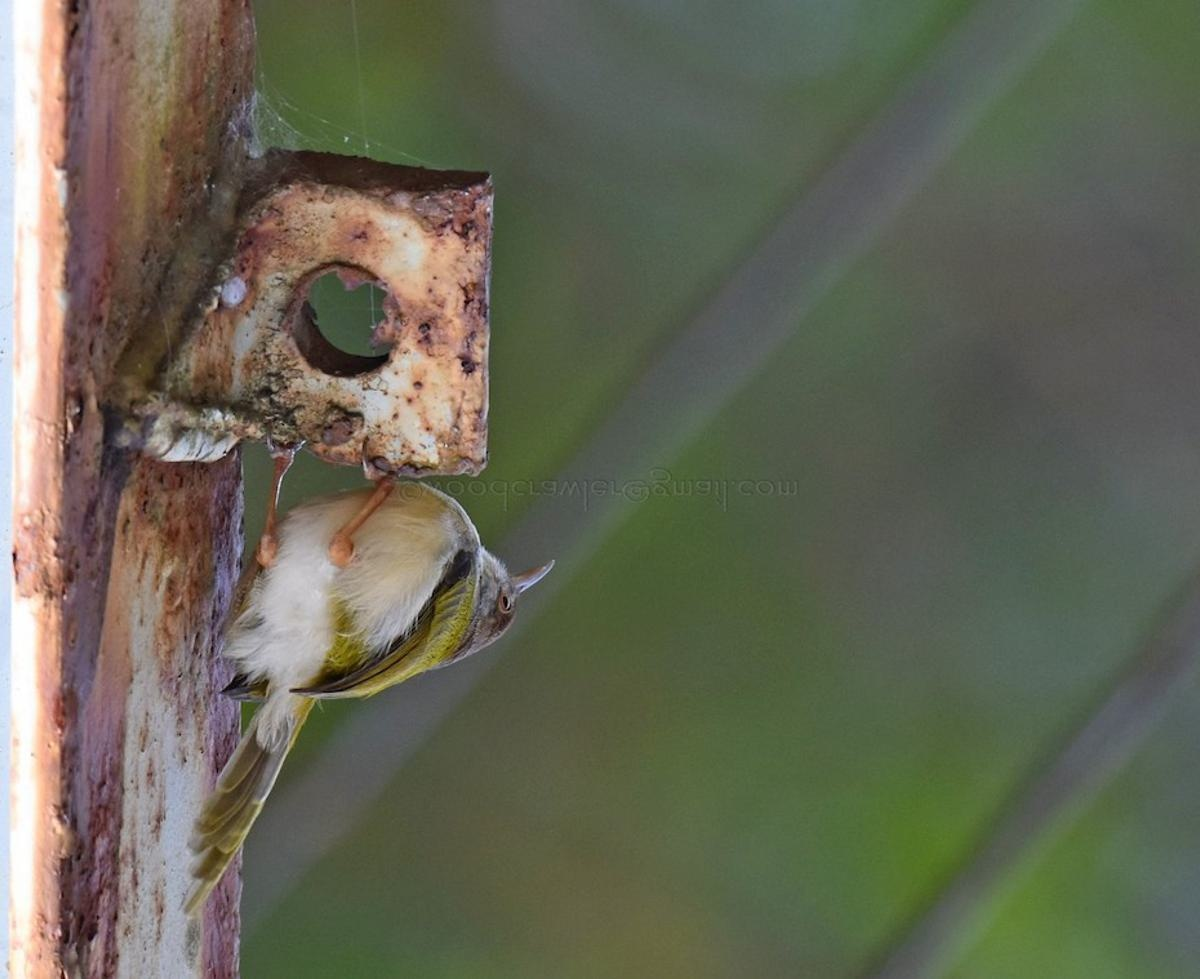tailorbird: (142, 457, 606, 854)
